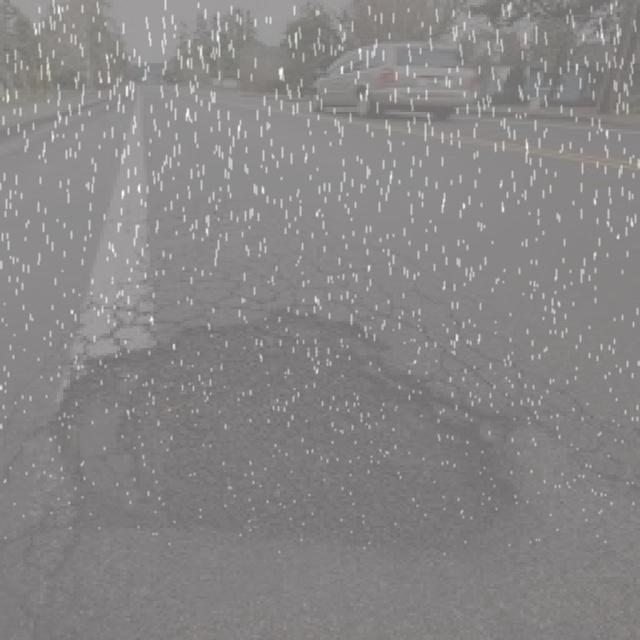Pothole: (41, 303, 560, 563)
